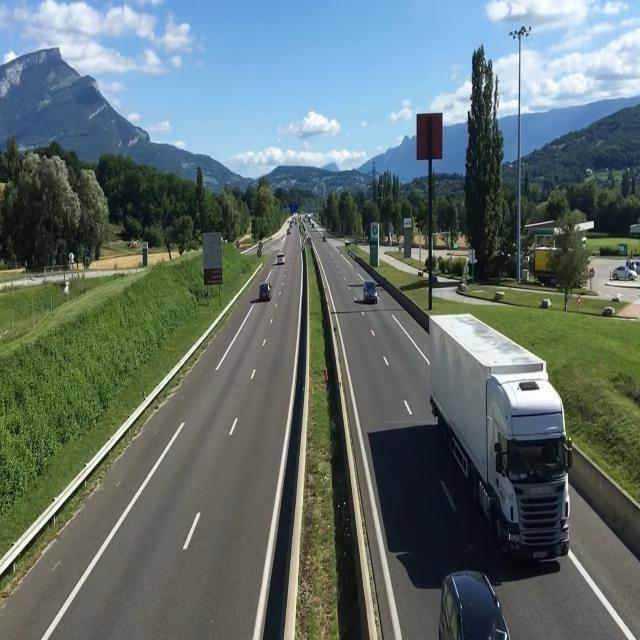Car: (435, 568, 508, 640), (362, 279, 379, 303), (611, 266, 637, 280), (259, 282, 273, 301), (276, 252, 286, 264)
Truck: (426, 312, 569, 565)
